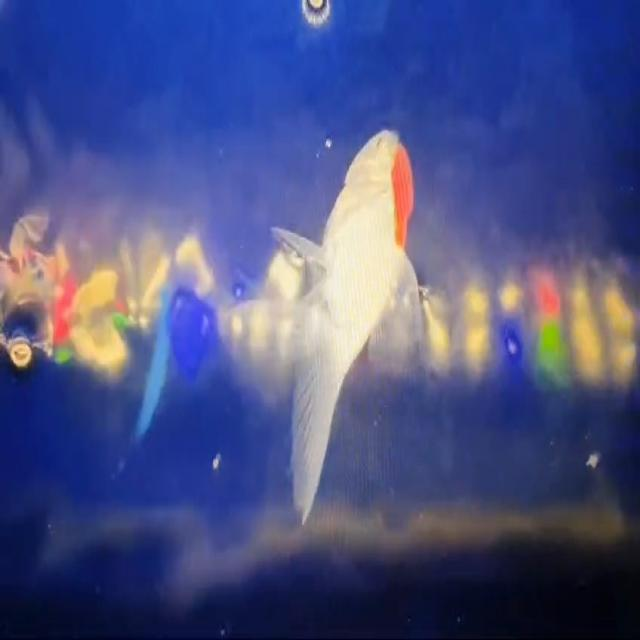fish: (260, 119, 419, 534)
